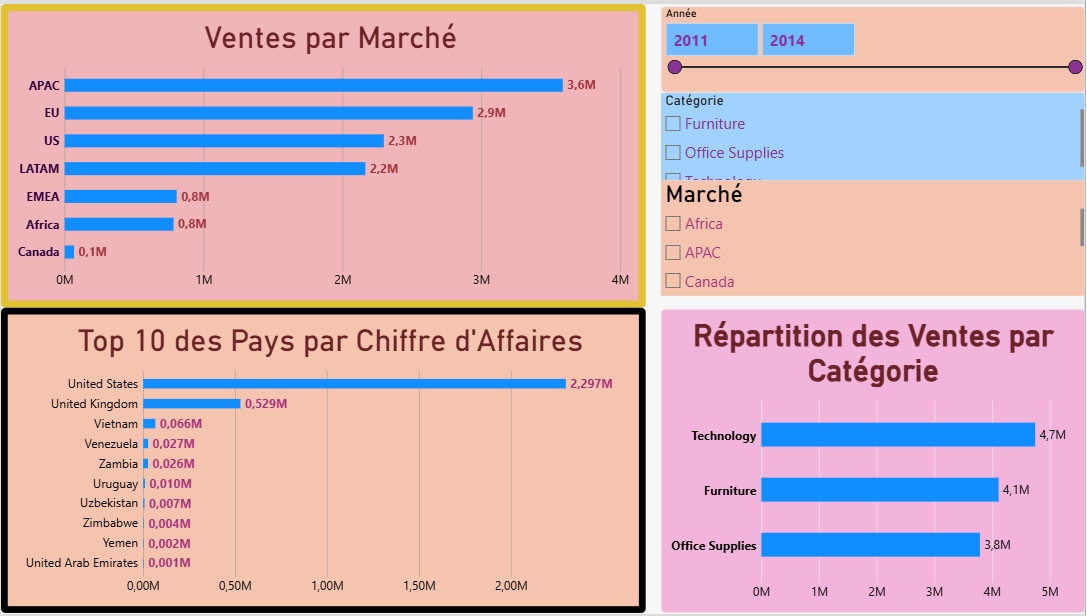

This screenshot's page, from the dashboard's own definition file:
{"tool":"powerbi","page":{"name":"Page 2","canvas":[1920,1080],"ordinal":0},"visuals":[{"type":"clusteredBarChart","title":"Répartition des Ventes par Catégorie","fields":{"Category":["public sales.category"],"Y":["Sum(public sales.sales)"]},"box":[1169.4,540.7,751.2,538.1],"z":0},{"type":"slicer","fields":{"Values":["public sales.year"]},"box":[1169.4,5.3,751.2,151.8],"z":1},{"type":"slicer","fields":{"Values":["public sales.market"]},"box":[1169.4,311.7,751.2,205.1],"z":2},{"type":"clusteredBarChart","title":"Ventes par Marché","fields":{"Category":["public sales.market"],"Y":["Sum(public sales.sales)"]},"box":[0,0,1142.7,538.1],"z":3},{"type":"clusteredBarChart","title":"Top 10 des Pays par Chiffre d''Affaires","fields":{"Category":["public sales.country"],"Y":["Sum(public sales.sales)"]},"box":[0,538.1,1142.7,540.7],"z":4},{"type":"slicer","fields":{"Values":["public sales.category"]},"box":[1169.4,157.2,751.2,154.5],"z":5}]}

Visuals, with their boxes in screenshot pixels (x1, y1, x2, y2), scaled from the page's 1920x1080 canvas onto the 1087x616 screenshot:
"Répartition des Ventes par Catégorie" clusteredBarChart: locate(662, 308, 1086, 615)
slicer - public sales.year: locate(662, 3, 1086, 90)
slicer - public sales.market: locate(662, 178, 1086, 295)
"Ventes par Marché" clusteredBarChart: locate(0, 0, 647, 307)
"Top 10 des Pays par Chiffre d''Affaires" clusteredBarChart: locate(0, 307, 647, 615)
slicer - public sales.category: locate(662, 90, 1086, 178)
